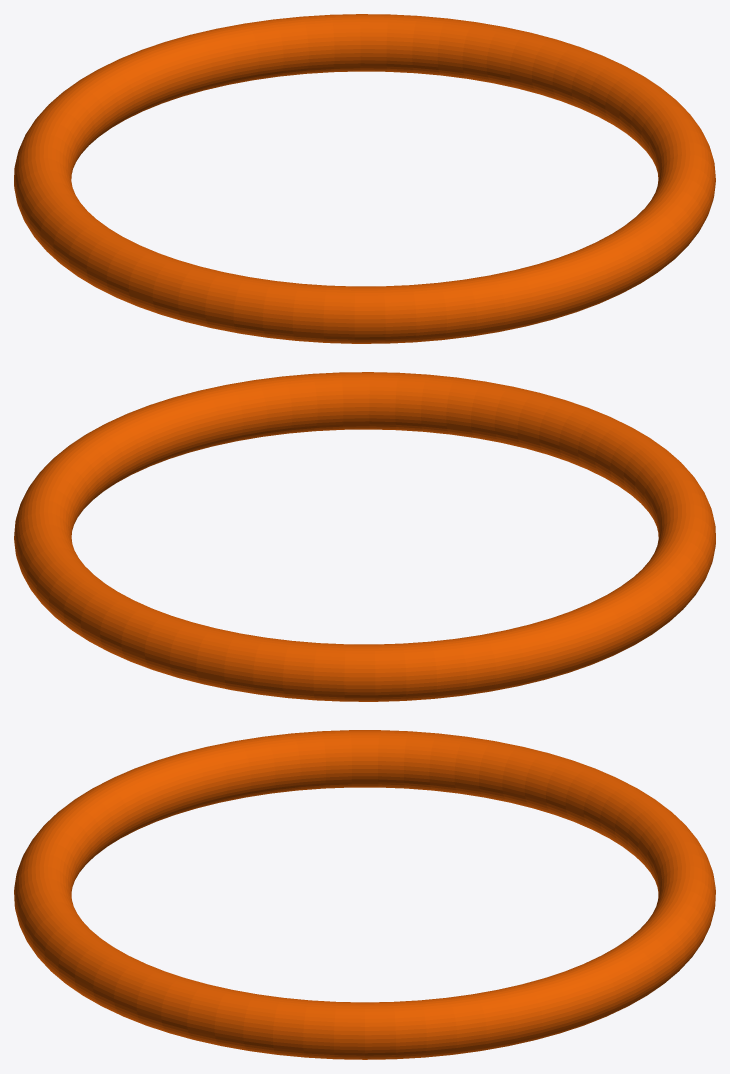
The model's file is obrecz.fbx.
3 views of the same model, one above another, from view 1: azimuth 30°, elevation 25°; view 2: azimuth 150°, elevation 25°; view 3: azimuth 270°, elevation 25° (orthographic).
Visible parts, largest first — view 1: Torus; view 2: Torus; view 3: Torus.
Boxes of the visible parts, x1,y1,x2,y2 form: Torus: (14, 14, 715, 343); Torus: (14, 372, 715, 701); Torus: (14, 730, 715, 1059).
Size of the model in its own units: 342 by 27.98 by 342.
